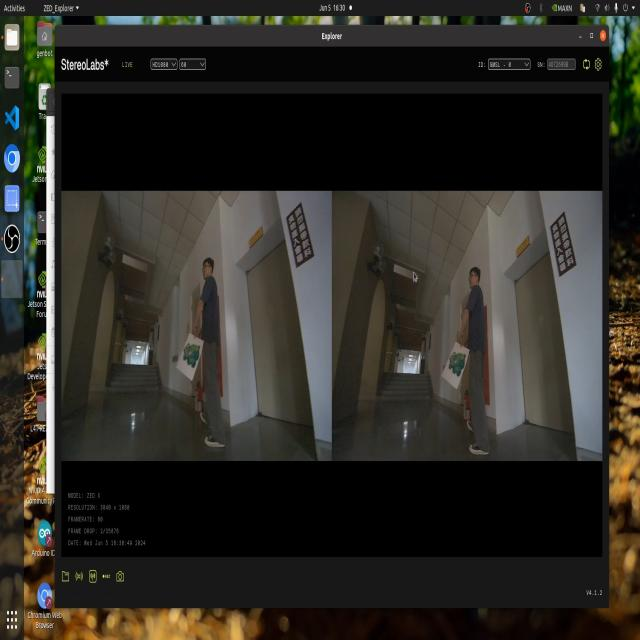green: (448, 347, 468, 380), (184, 340, 203, 370)
